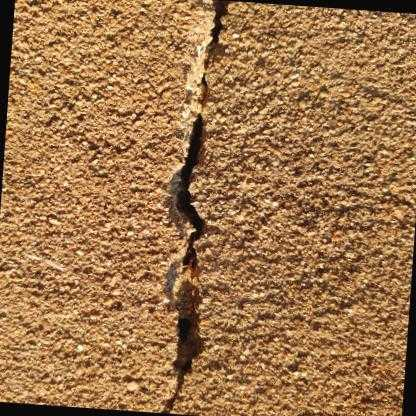crack: (164, 0, 227, 414)
